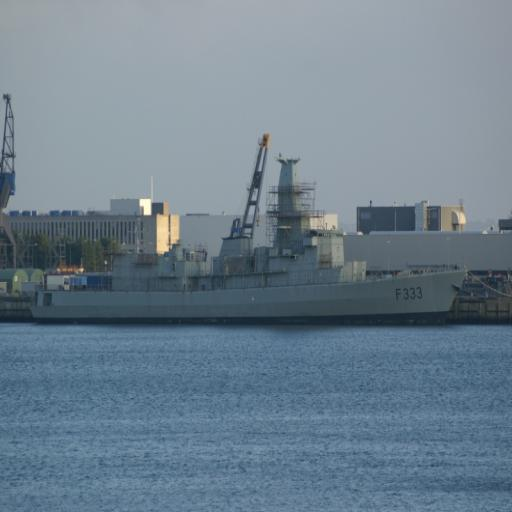Fragata: (24, 146, 470, 332)
